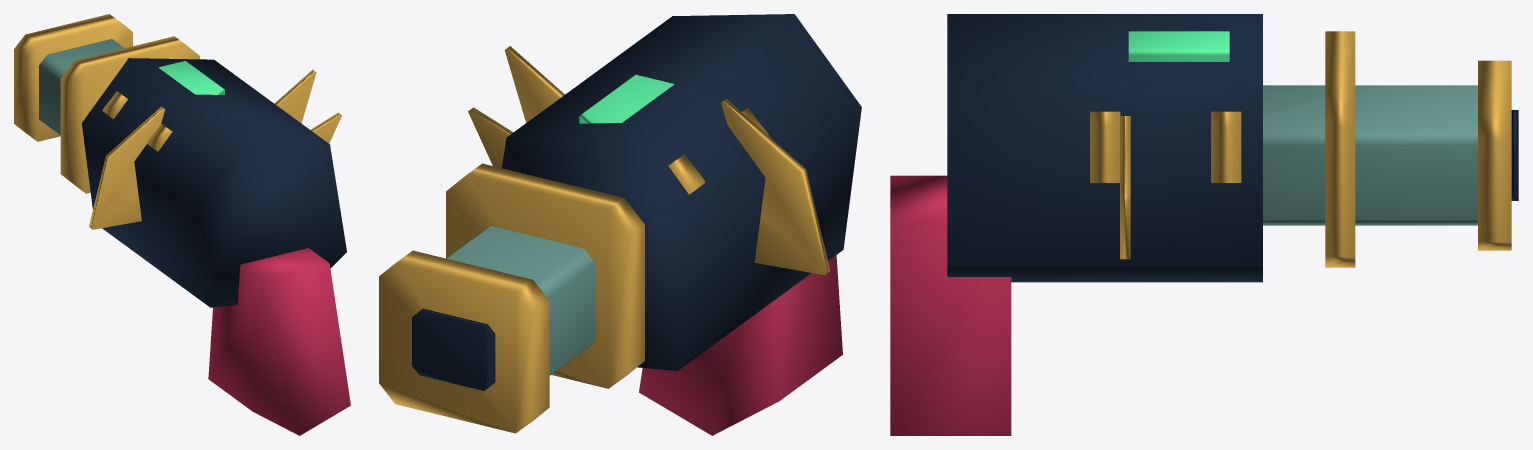
Rendered from mint_pistol.glb.
3 renders of one model, left to right at view 1: azimuth 30°, elevation 25°; view 2: azimuth 150°, elevation 25°; view 3: azimuth 270°, elevation 25°, orthographic. The views are drawn at different scales.
Visible parts, largest first — view 1: CarvedReceiver, CarvedGrip, GiltBand (×3), WingEtching (×2), MuzzleRim, Barrel, EmeraldSight; view 2: CarvedReceiver, MuzzleRim, GiltBand (×2), CarvedGrip, WingEtching (×2), Barrel, Bore, EmeraldSight; view 3: CarvedReceiver, Barrel, CarvedGrip, GiltBand (×3), MuzzleRim, EmeraldSight, WingEtching, Bore.
Boxes of the visible parts, bbox=[...] form: CarvedReceiver: bbox=[81, 58, 346, 307]; CarvedGrip: bbox=[208, 248, 350, 435]; GiltBand (×3): bbox=[60, 36, 199, 193]; WingEtching (×2): bbox=[89, 69, 341, 229]; MuzzleRim: bbox=[14, 14, 132, 141]; Barrel: bbox=[39, 39, 124, 135]; EmeraldSight: bbox=[158, 61, 224, 94]; CarvedReceiver: bbox=[501, 14, 861, 371]; MuzzleRim: bbox=[379, 250, 549, 433]; GiltBand (×2): bbox=[446, 154, 704, 388]; CarvedGrip: bbox=[639, 255, 842, 435]; WingEtching (×2): bbox=[468, 46, 830, 275]; Barrel: bbox=[447, 226, 595, 375]; Bore: bbox=[412, 308, 495, 390]; EmeraldSight: bbox=[579, 74, 674, 123]; CarvedReceiver: bbox=[947, 14, 1262, 282]; Barrel: bbox=[1263, 85, 1477, 225]; CarvedGrip: bbox=[890, 175, 1011, 435]; GiltBand (×3): bbox=[1090, 31, 1355, 267]; MuzzleRim: bbox=[1478, 60, 1511, 250]; EmeraldSight: bbox=[1128, 31, 1229, 61]; WingEtching: bbox=[1120, 116, 1130, 259]; Bore: bbox=[1511, 110, 1518, 200].
Bounding box in the file's own units: 0.584 × 0.64 × 0.9355.
